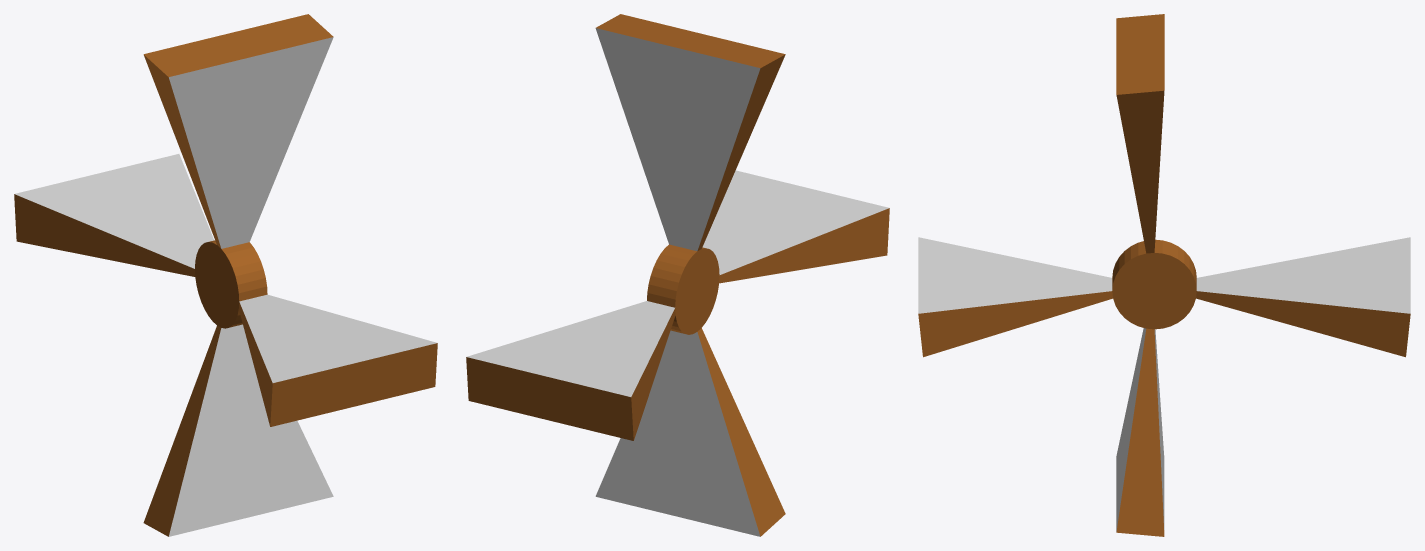
The model's file is windmill_Rotator.fbx.
The picture shows the model from 3 angles, left to right: view 1: azimuth 30°, elevation 25°; view 2: azimuth 150°, elevation 25°; view 3: azimuth 270°, elevation 25°; orthographic projection. The views are drawn at different scales.
Parts seen in each view (by area): view 1: Cube.001; view 2: Cube.001; view 3: Cube.001.
Part boxes in pixels (x1=…): Cube.001: x1=14, y1=14, x2=437, y2=536; Cube.001: x1=466, y1=14, x2=889, y2=536; Cube.001: x1=918, y1=14, x2=1410, y2=536.
Bounding box in the file's own units: 515 × 1397 × 1397.
